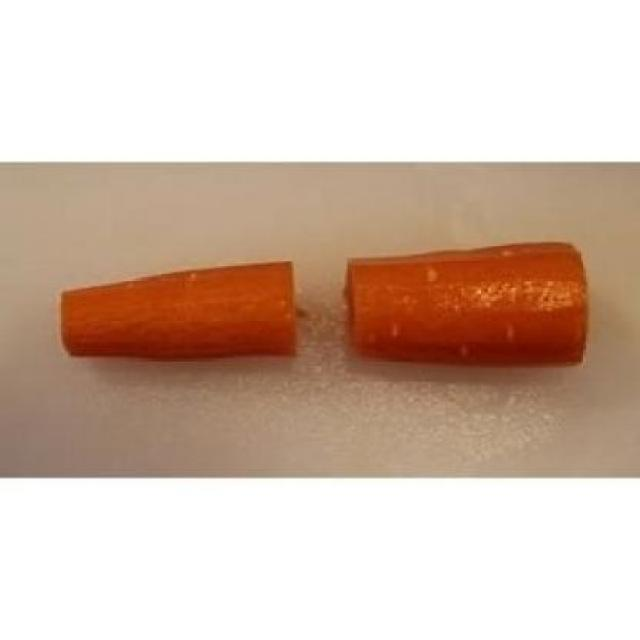carrot: (340, 232, 594, 380), (43, 245, 319, 372)
